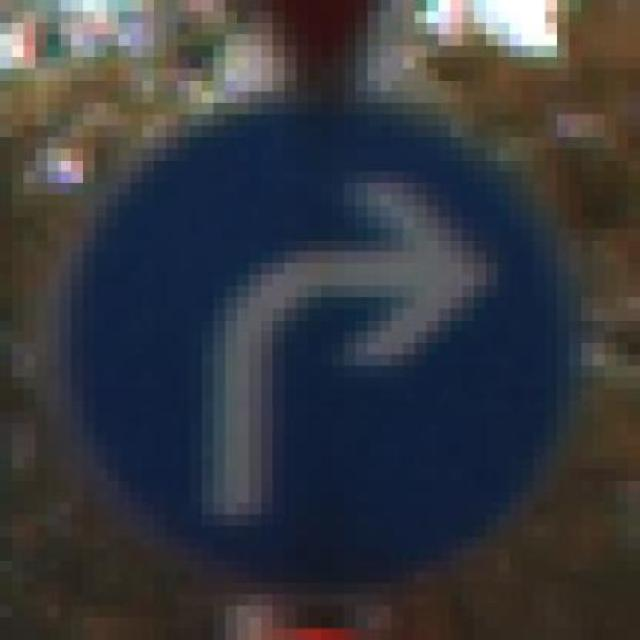Turn right ahead: (68, 79, 589, 582)
